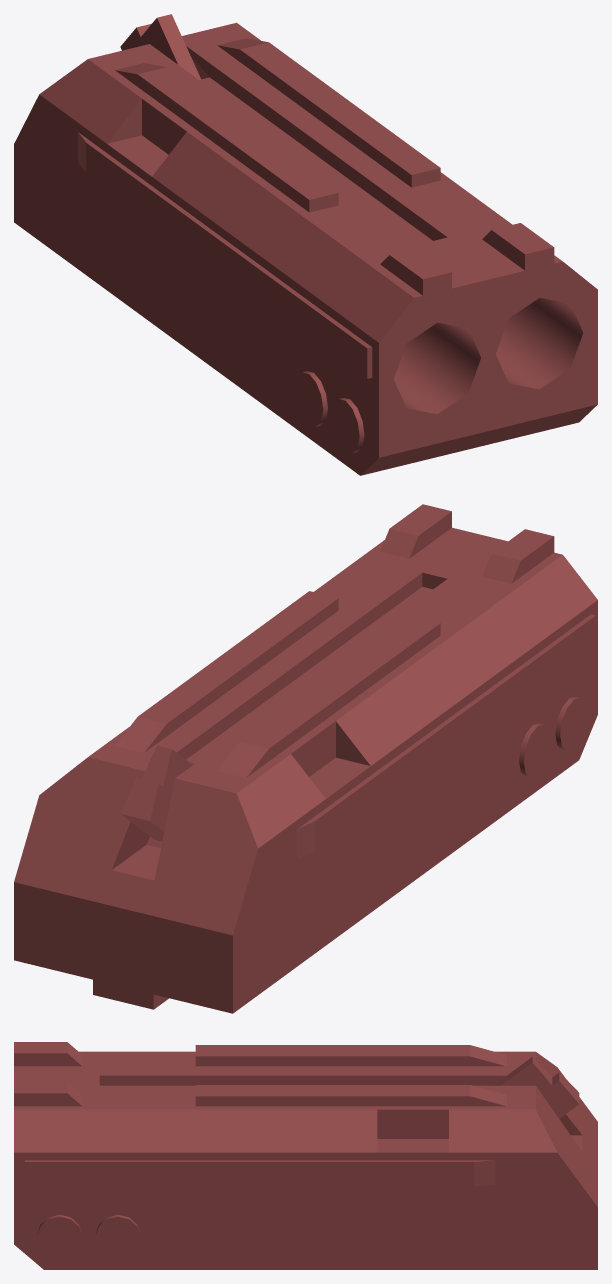
File: WM0_Cannon_x2_LVL2.FBX
The picture shows the model from 3 angles, top to bottom: view 1: azimuth 30°, elevation 25°; view 2: azimuth 150°, elevation 25°; view 3: azimuth 270°, elevation 25°; orthographic projection. The views are drawn at different scales.
Parts seen in each view (by area): view 1: WM0_Cannon_x2_LVL2; view 2: WM0_Cannon_x2_LVL2; view 3: WM0_Cannon_x2_LVL2.
Part boxes in pixels (bbox=[...]): WM0_Cannon_x2_LVL2: bbox=[14, 14, 597, 475]; WM0_Cannon_x2_LVL2: bbox=[14, 504, 597, 1013]; WM0_Cannon_x2_LVL2: bbox=[14, 1042, 597, 1269].
Size of the model in its own units: 11.75 by 11.05 by 32.5.
